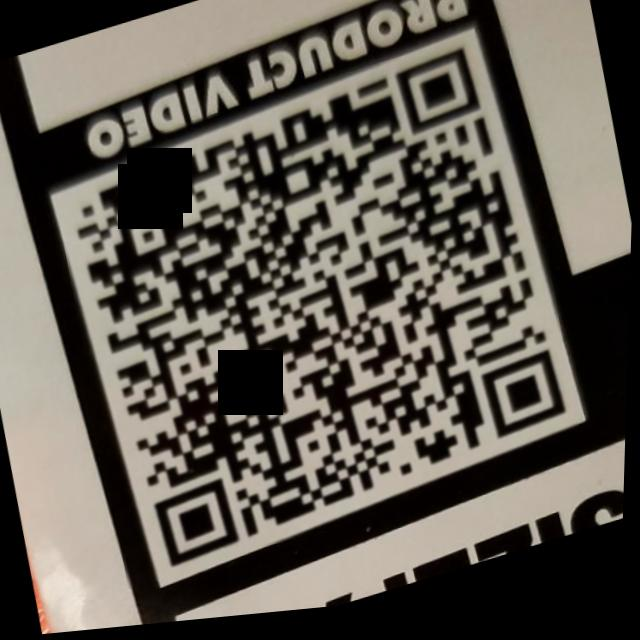QR_CODE: (40, 28, 596, 598)
